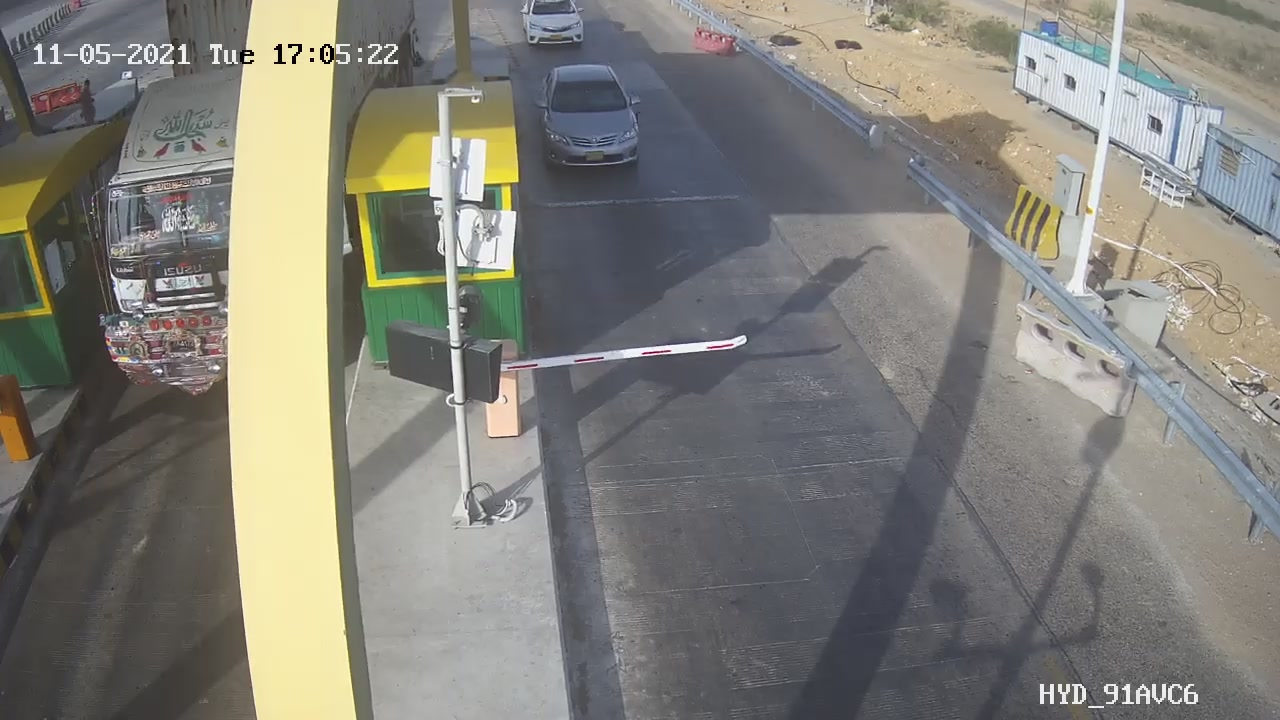F1: (525, 53, 656, 183)
